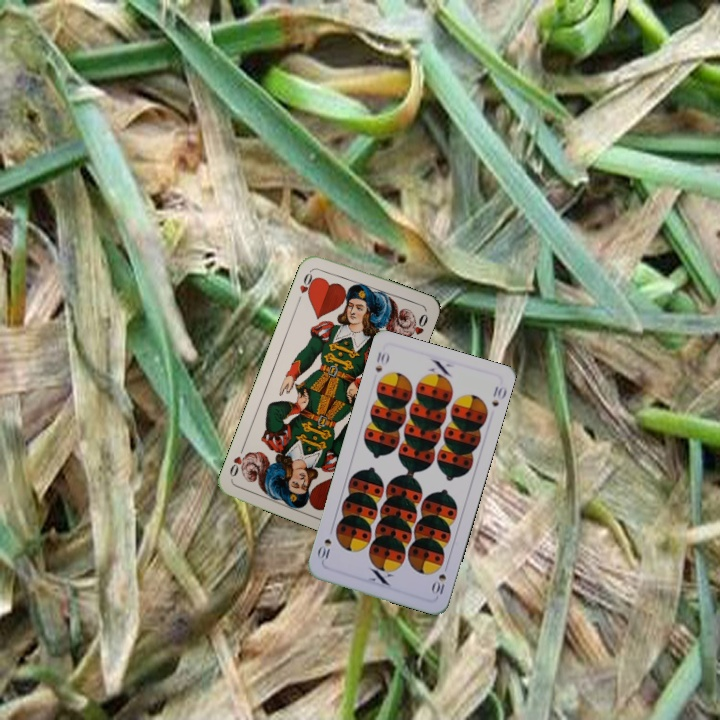HO: (293, 265, 319, 304)
S10: (427, 570, 449, 599), (371, 348, 392, 375)
